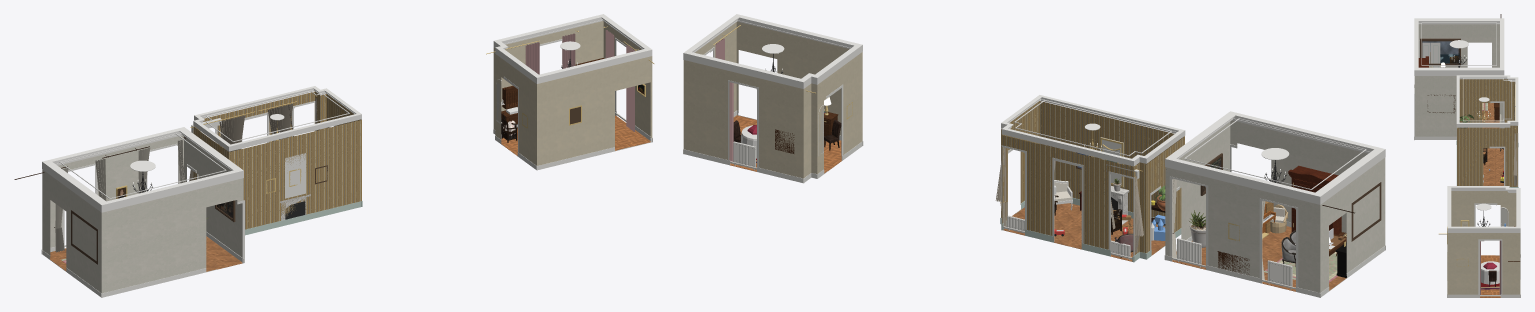
The model's file is piece_chambres.glb.
The picture shows the model from 3 angles, left to right: view 1: azimuth 30°, elevation 25°; view 2: azimuth 150°, elevation 25°; view 3: azimuth 270°, elevation 25°; orthographic projection. The views are drawn at different scales.
Parts seen in each view (by area): view 1: chambre_3_peinture, chambre_1_peinture, chambre_2_papier_peint, chambre_3_corniche, chambre_1_corniche, chambre_2_corniche, chambre_3_plinthes, chambre_3_parquet, chambre_1_parquet, chambre_2_trumeau, chambre_1_rideaux_EO_14.4, chambre_3_rideaux_EO_-8.8 (+8 smaller); view 2: chambre_3_peinture, chambre_1_peinture, chambre_2_papier_peint, chambre_3_corniche, chambre_1_corniche, chambre_2_corniche, chambre_2_parquet, chambre_2_chambranles, chambre_3_chambranles, chambre_3_parquet, chambre_3_armoire, chambre_3_plinthes (+9 smaller); view 3: chambre_1_peinture, chambre_2_papier_peint, chambre_3_peinture, chambre_3_corniche, chambre_1_corniche, chambre_2_corniche, chambre_2_parquet, chambre_3_tableau_marine, chambre_1_chambranles, chambre_3_porte_ouest, chambre_1_table_ronde, chambre_2_chambranles (+16 smaller).
Boxes of the visible parts, bbox=[...] form: chambre_3_peinture: bbox=[42, 135, 243, 293]; chambre_1_peinture: bbox=[493, 21, 652, 165]; chambre_2_papier_peint: bbox=[193, 91, 361, 229]; chambre_3_corniche: bbox=[42, 127, 243, 212]; chambre_1_corniche: bbox=[493, 14, 652, 83]; chambre_2_corniche: bbox=[193, 86, 361, 151]; chambre_3_plinthes: bbox=[41, 232, 244, 297]; chambre_3_parquet: bbox=[50, 236, 242, 271]; chambre_1_parquet: bbox=[501, 115, 650, 155]; chambre_2_trumeau: bbox=[285, 153, 305, 198]; chambre_1_rideaux_EO_14.4: bbox=[486, 30, 578, 74]; chambre_3_rideaux_EO_-8.8: bbox=[14, 155, 108, 252]; chambre_3_peinture: bbox=[1165, 120, 1385, 292]; chambre_1_peinture: bbox=[683, 21, 862, 178]; chambre_2_papier_peint: bbox=[1001, 101, 1184, 254]; chambre_3_corniche: bbox=[1165, 111, 1385, 204]; chambre_1_corniche: bbox=[683, 14, 862, 88]; chambre_2_corniche: bbox=[1001, 95, 1185, 166]; chambre_2_parquet: bbox=[1003, 203, 1165, 261]; chambre_2_chambranles: bbox=[1001, 145, 1160, 259]; chambre_3_chambranles: bbox=[1169, 144, 1298, 289]; chambre_3_parquet: bbox=[1172, 226, 1346, 291]; chambre_3_armoire: bbox=[1288, 165, 1341, 234]; chambre_3_plinthes: bbox=[1164, 221, 1385, 297]; chambre_1_peinture: bbox=[1447, 191, 1520, 294]; chambre_2_papier_peint: bbox=[1457, 79, 1517, 187]; chambre_3_peinture: bbox=[1414, 24, 1503, 136]; chambre_3_corniche: bbox=[1414, 18, 1504, 75]; chambre_1_corniche: bbox=[1447, 186, 1520, 232]; chambre_2_corniche: bbox=[1456, 75, 1518, 127]; chambre_2_parquet: bbox=[1483, 148, 1503, 185]; chambre_3_tableau_marine: bbox=[1420, 38, 1460, 65]; chambre_1_chambranles: bbox=[1474, 203, 1520, 296]; chambre_3_porte_ouest: bbox=[1419, 40, 1441, 67]; chambre_1_table_ronde: bbox=[1481, 261, 1499, 284]; chambre_2_chambranles: bbox=[1489, 101, 1518, 186].
Bounding box in the file's own units: 27.17 × 4 × 5.54.
74 materials, 35 textured.
